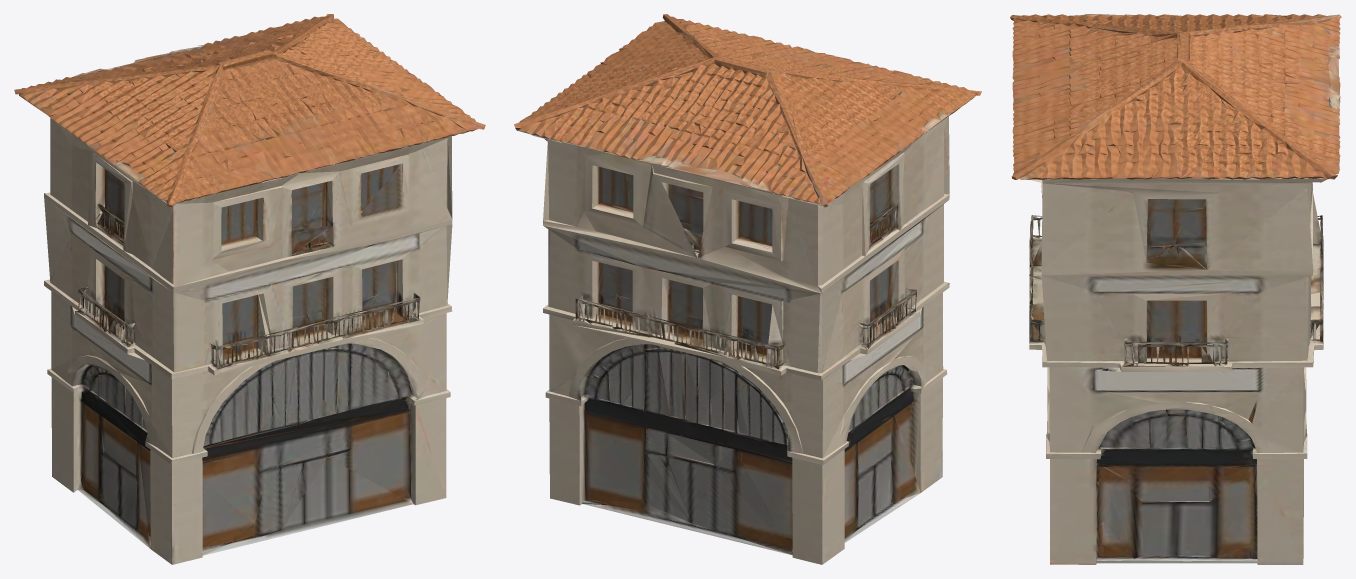
The model's file is market_hall.glb.
3 renders of one model, left to right at view 1: azimuth 30°, elevation 25°; view 2: azimuth 150°, elevation 25°; view 3: azimuth 270°, elevation 25°, orthographic. The views are drawn at different scales.
Visible parts, largest first — view 1: Mesh_0; view 2: Mesh_0; view 3: Mesh_0.
Part boxes in pixels (bbox=[...]): Mesh_0: bbox=[14, 14, 485, 564]; Mesh_0: bbox=[514, 14, 981, 564]; Mesh_0: bbox=[1010, 14, 1341, 564].
Bounding box in the file's own units: 7.98 × 10.24 × 6.85.
1 material, 1 textured.
